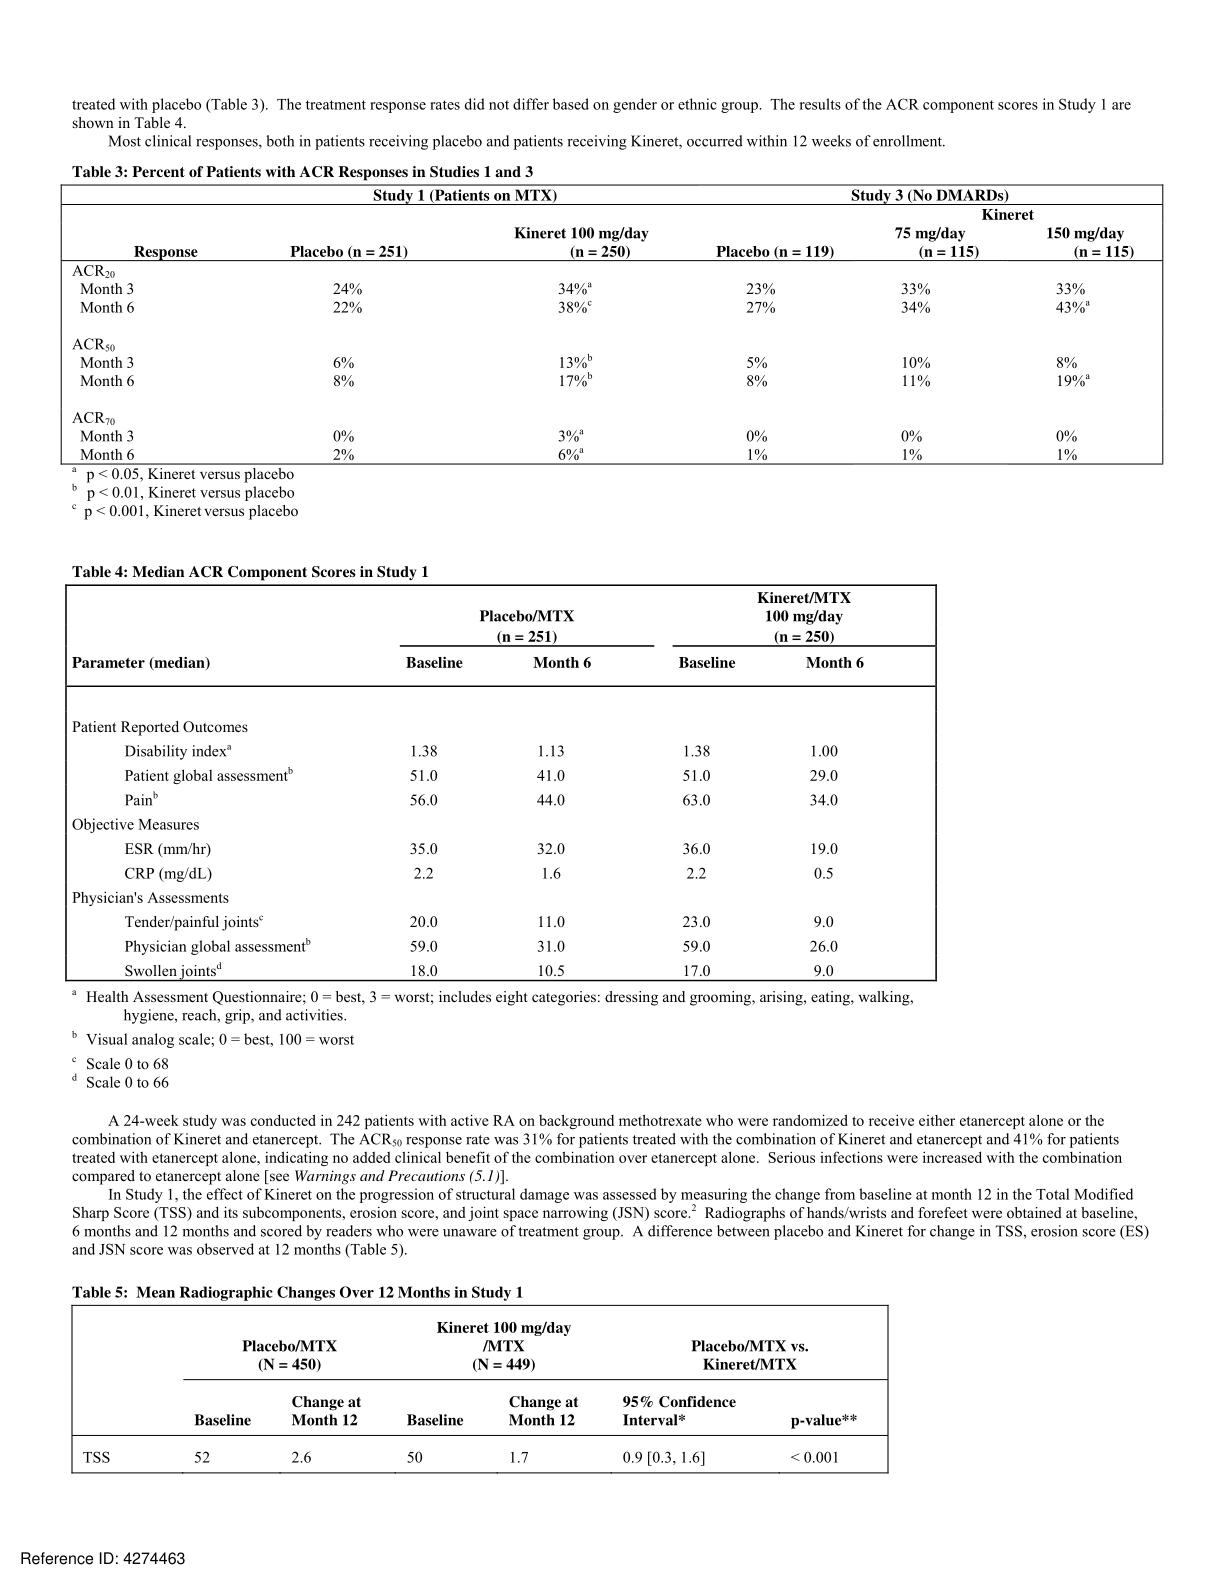partial_lined_merged_cells: (64, 582, 939, 984), (60, 183, 1165, 465), (69, 1302, 890, 1476)
